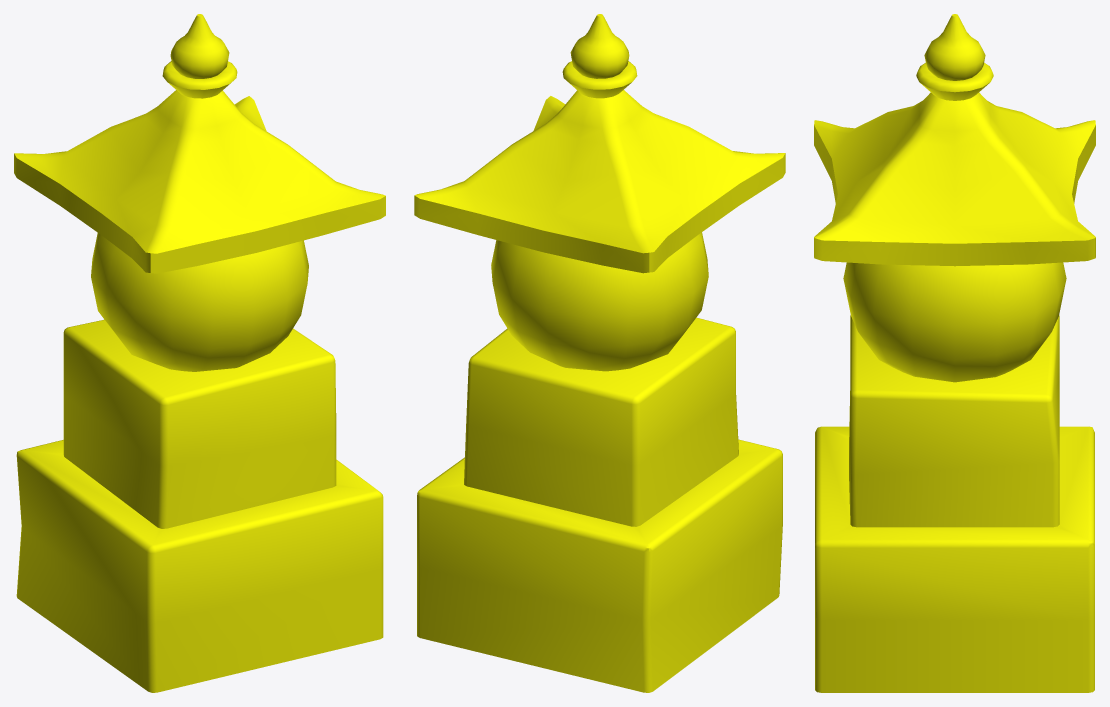
Rendered from Props_Sculptures_Sculpture1.glb.
3 renders of one model, left to right at view 1: azimuth 30°, elevation 25°; view 2: azimuth 150°, elevation 25°; view 3: azimuth 270°, elevation 25°, orthographic. The views are drawn at different scales.
Visible parts, largest first — view 1: Base.004; view 2: Base.004; view 3: Base.004.
Part boxes in pixels (box(x1,y1,x2,y2)): Base.004: box(14, 14, 385, 692); Base.004: box(414, 14, 785, 692); Base.004: box(814, 14, 1095, 692).
Size of the model in its own units: 1.95 by 4.72 by 1.95.
Materials: 1 (1 with a texture image).
